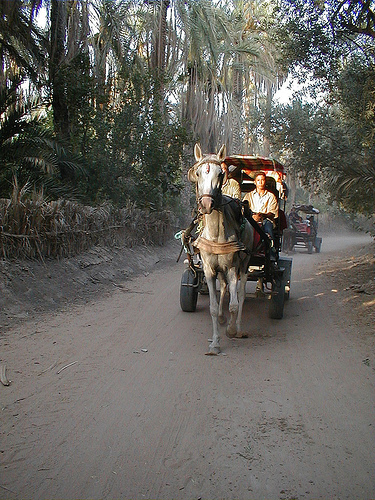horse: (190, 149, 251, 355)
